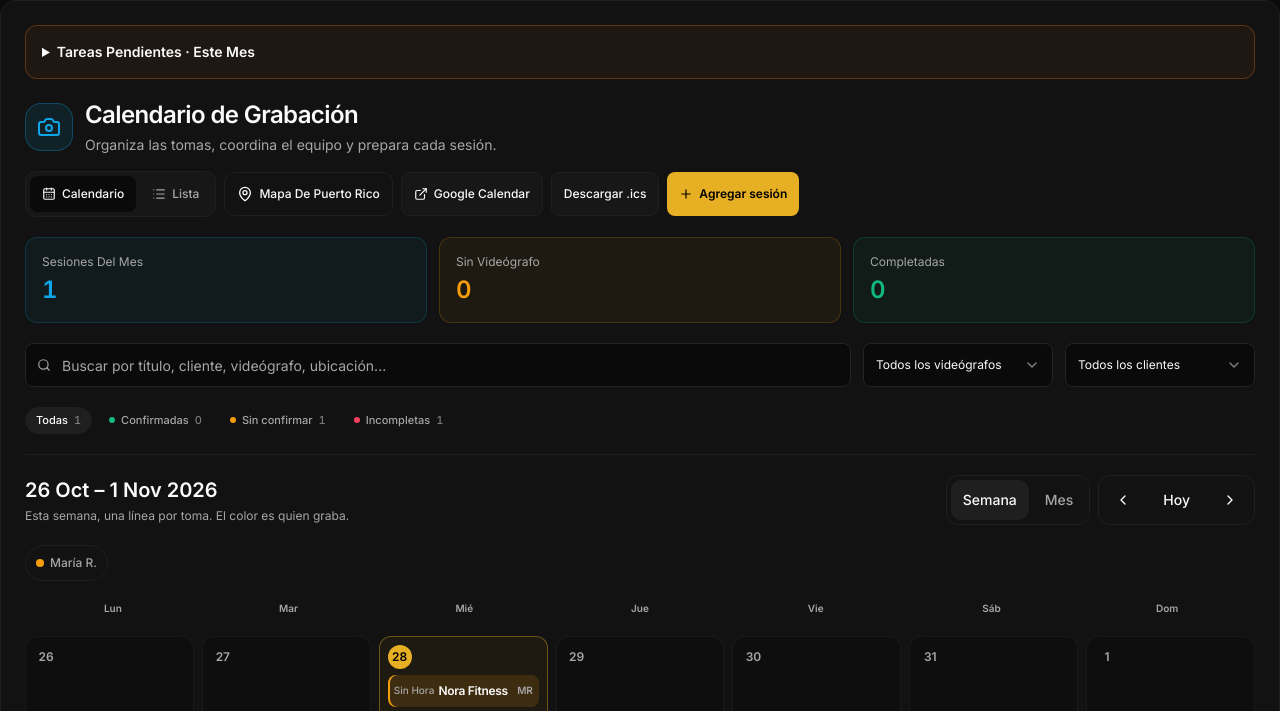
Scenario: RecordingCalendarClient — premium redesign › la lista conserva quién va y el lugar
The width and height of the screenshot is (1280, 711).
Click the button "Lista".
click(176, 194)  # box [140,176,211,212]
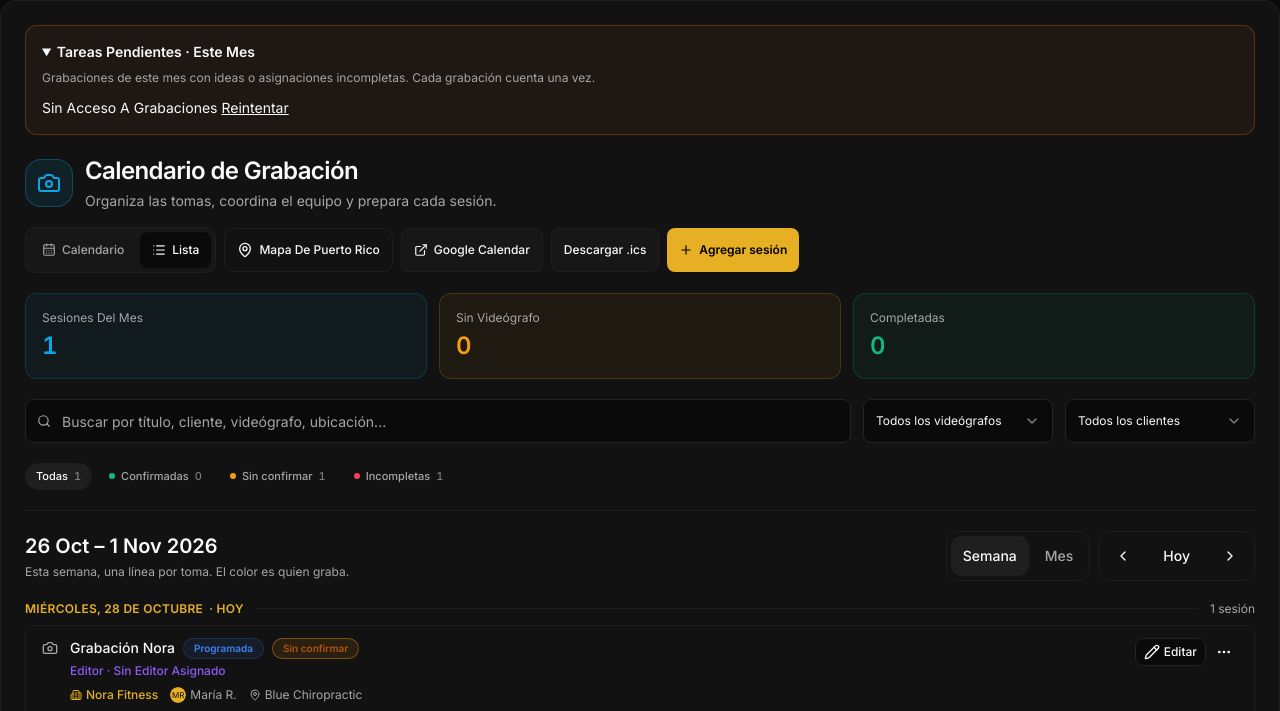
Now the text "Blue Chiropractic" is shown, box [249,686,362,702]
